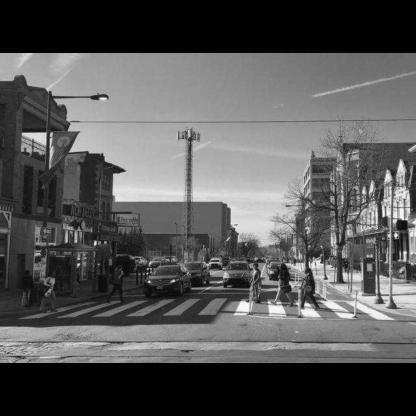Bicycle: (237, 267, 262, 312)
